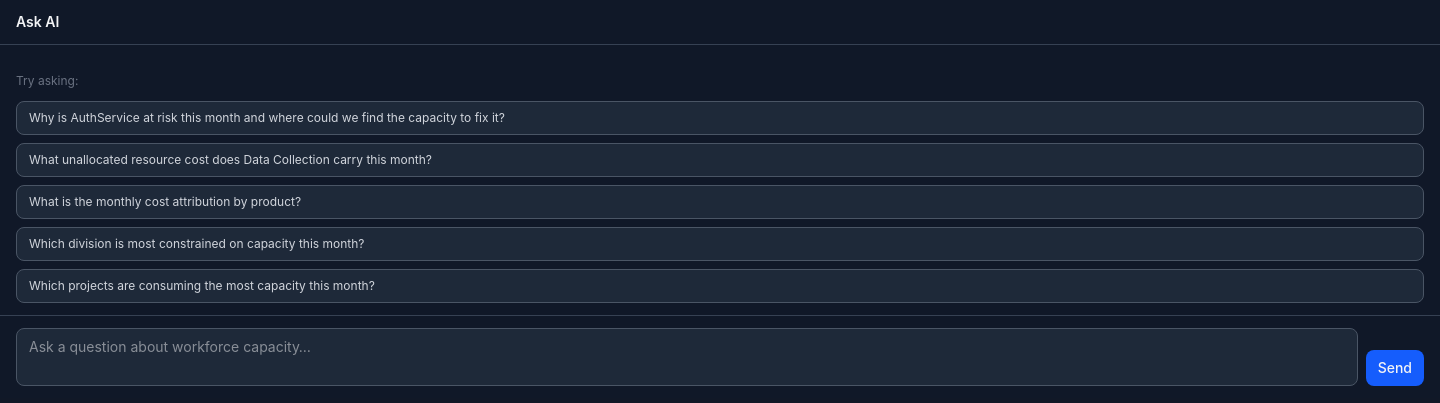
ChatPanel › clicking a chip populates the textarea with its query text
Click the button "Why is AuthService at risk" at (267, 118), box [16, 101, 1424, 135]
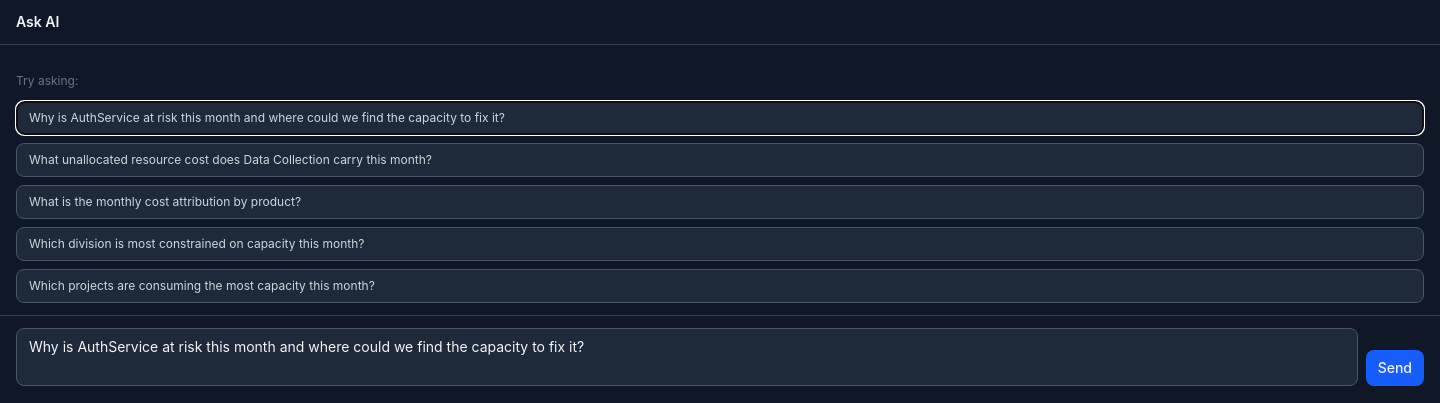
expect the text box holds "Why is AuthService at risk this month and where could we find the capacity to fix it?": met, box [16, 328, 1358, 386]
